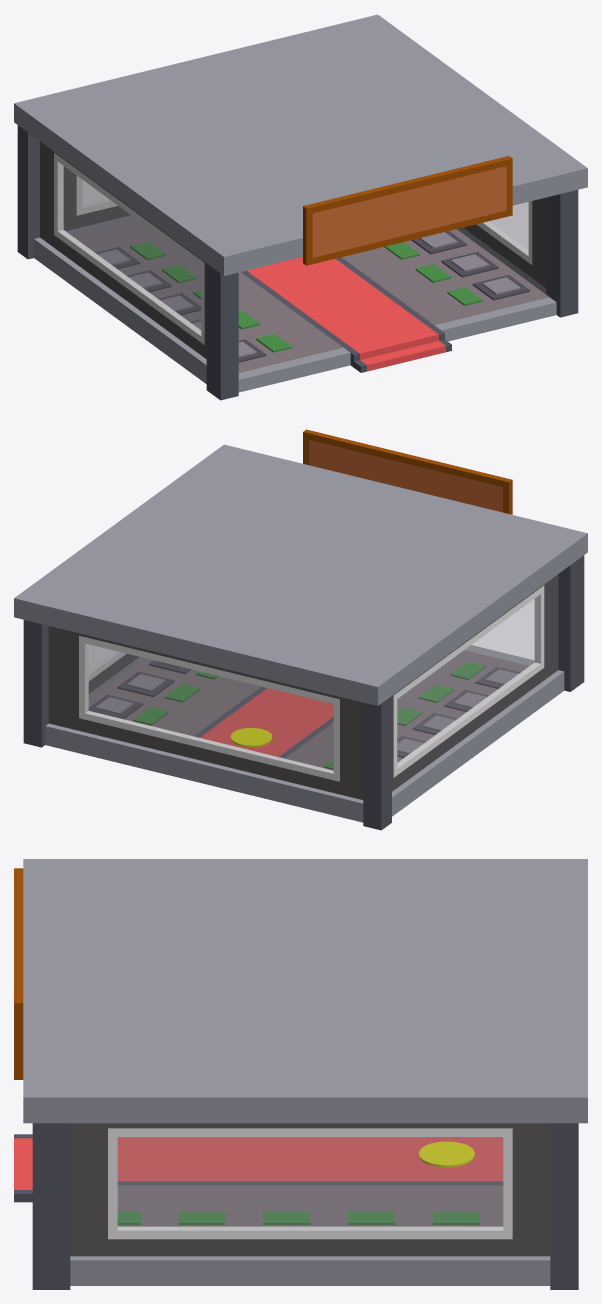
The picture shows the model from 3 angles, top to bottom: view 1: azimuth 30°, elevation 25°; view 2: azimuth 150°, elevation 25°; view 3: azimuth 270°, elevation 25°; orthographic projection. The views are drawn at different scales.
Visible parts, largest first — view 1: Base 1; view 2: Base 1; view 3: Base 1.
Boxes of the visible parts, bbox=[...] form: Base 1: bbox=[14, 14, 587, 400]; Base 1: bbox=[14, 429, 587, 830]; Base 1: bbox=[14, 859, 587, 1289].
Bounding box in the file's own units: 4207 × 1963 × 4277.
